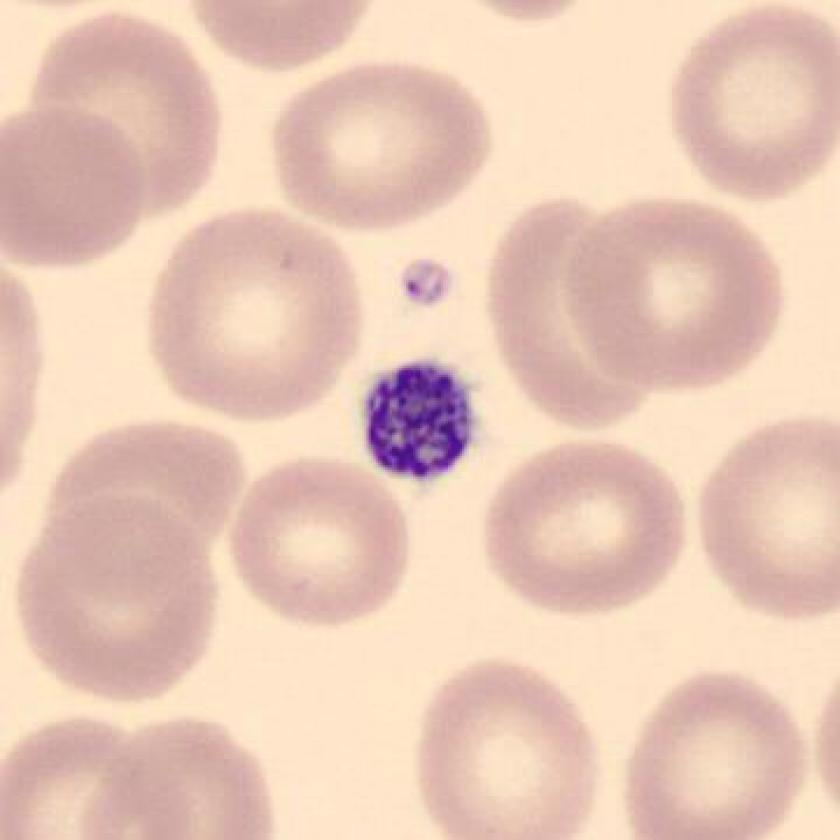platelets: (354, 350, 487, 494), (398, 251, 454, 311)
